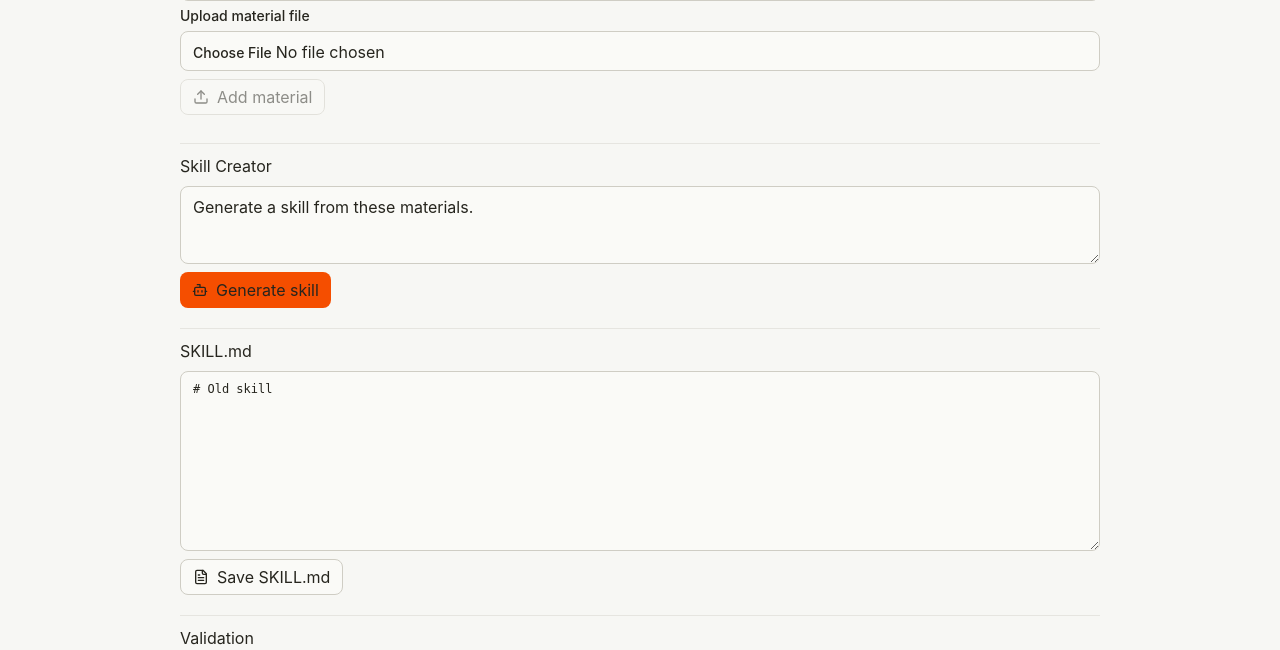
it: ManagementPage › refreshes the SKILL.md editor after Skill Creator writes artifacts
This screenshot has width=1280, height=650.
(page scrolled)
Expected: the 2nd text box showing "# Old skill" is shown, [180,371,1100,551]
Click the button "Generate skill" at (255, 290), box [180,272,331,308]
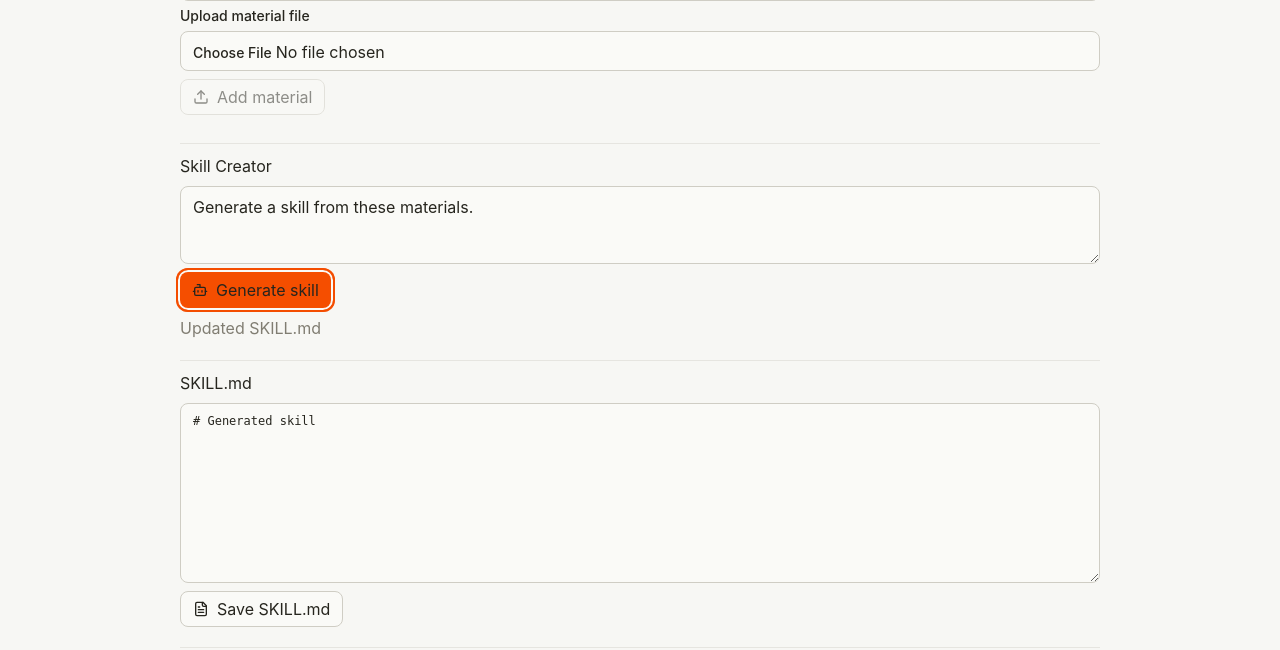
Result: the 2nd text box showing "# Generated skill" is shown at [180,403,1100,583]
